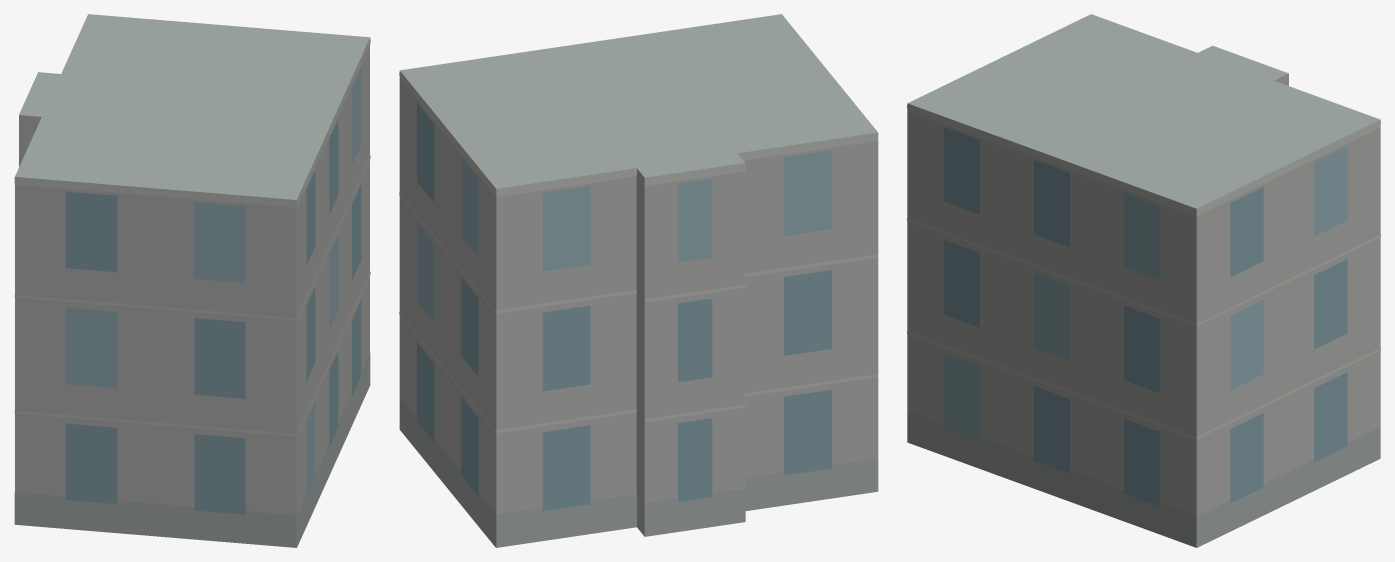
The model's file is survey-upis-32616584.glb.
3 renders of one model, left to right at view 1: azimuth 30°, elevation 25°; view 2: azimuth 150°, elevation 25°; view 3: azimuth 270°, elevation 25°, orthographic. The views are drawn at different scales.
Visible parts, largest first — view 1: survey-upis-32616584.tmp; view 2: survey-upis-32616584.tmp; view 3: survey-upis-32616584.tmp.
Part boxes in pixels (bbox=[...]): survey-upis-32616584.tmp: bbox=[14, 14, 370, 547]; survey-upis-32616584.tmp: bbox=[399, 14, 878, 547]; survey-upis-32616584.tmp: bbox=[907, 14, 1380, 547].
Size of the model in its own units: 13.14 by 10.65 by 13.49.
